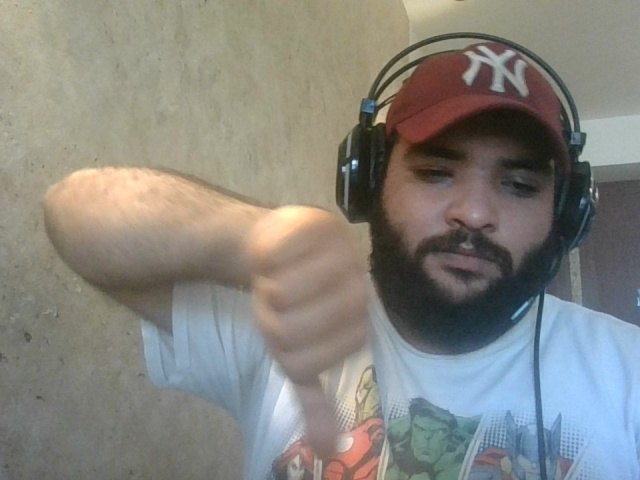no: (239, 201, 375, 463)
